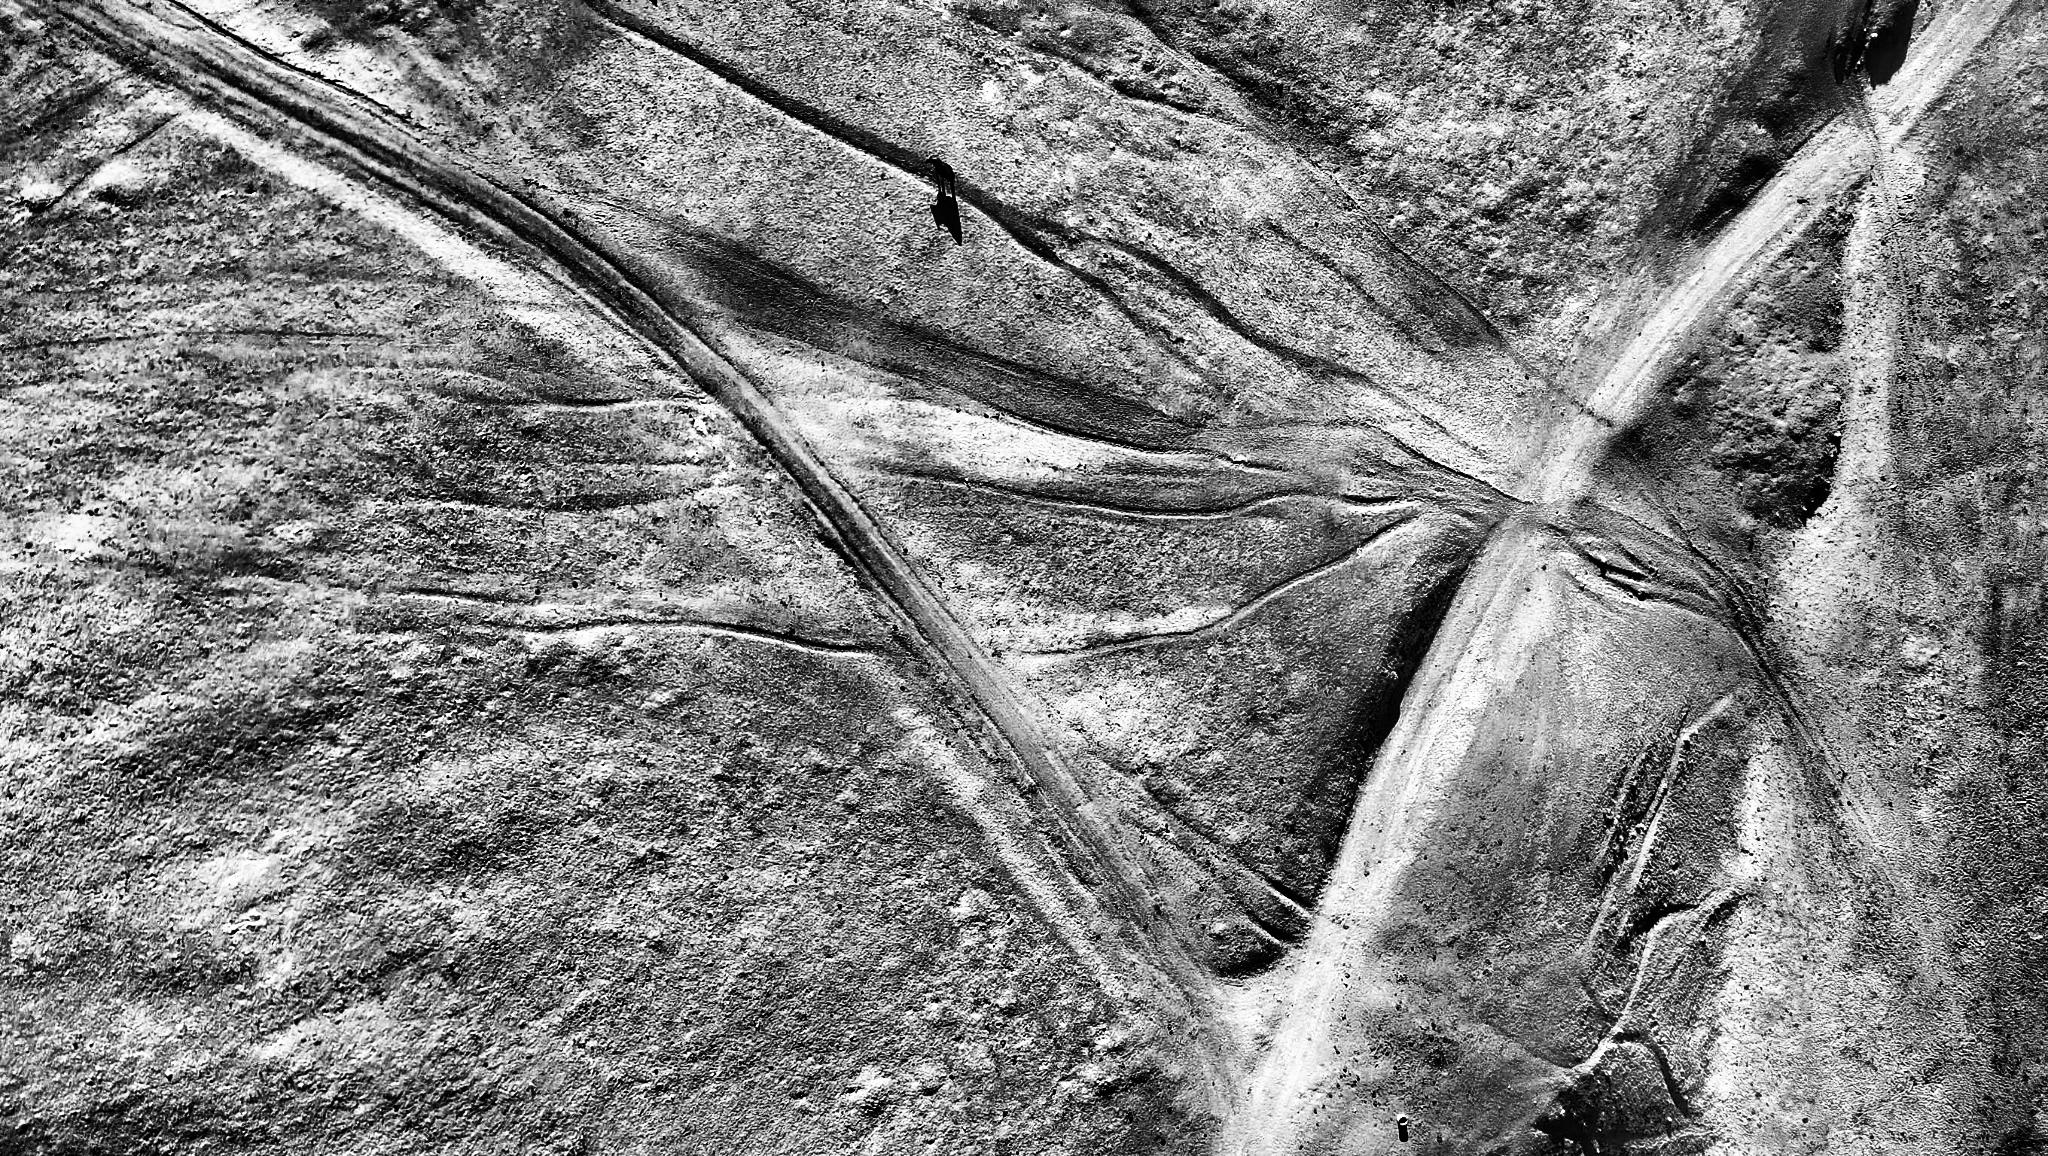herd: (926, 153, 958, 201)
